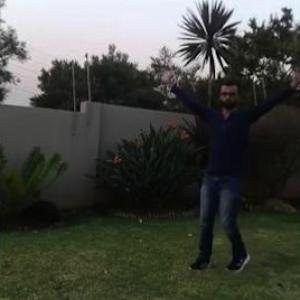takeoff: (166, 71, 299, 274)
